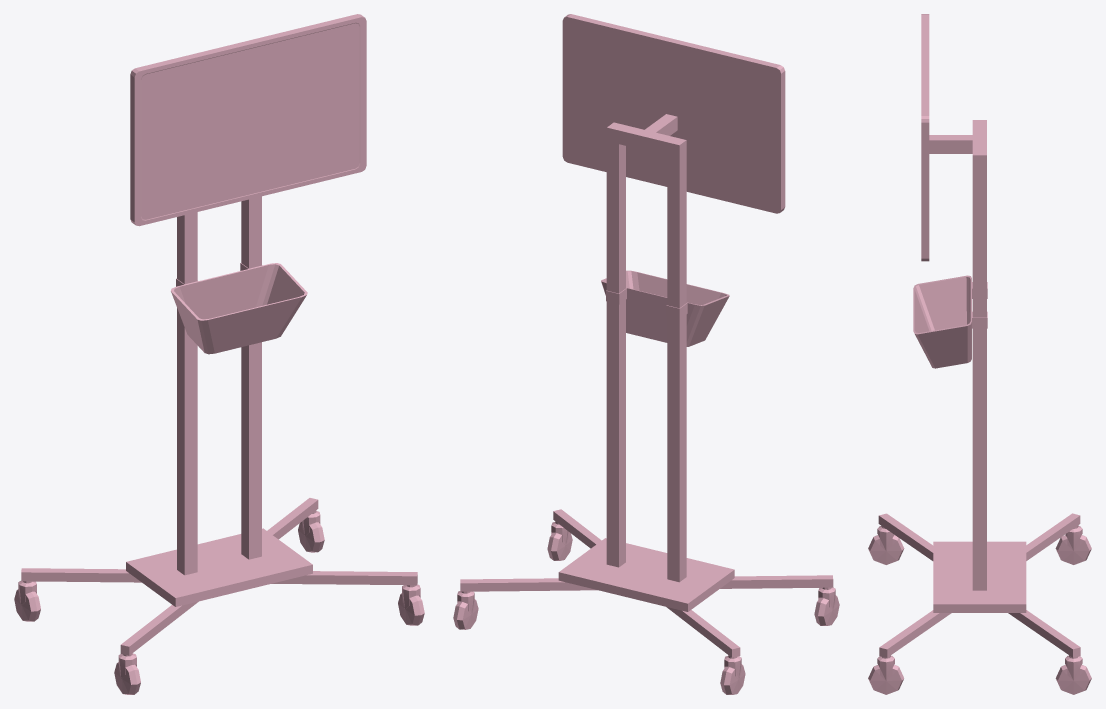
The model's file is device_2.dae.
3 renders of one model, left to right at view 1: azimuth 30°, elevation 25°; view 2: azimuth 150°, elevation 25°; view 3: azimuth 270°, elevation 25°, orthographic. The views are drawn at different scales.
Parts seen in each view (by area): view 1: cart2_Cube.004; view 2: cart2_Cube.004; view 3: cart2_Cube.004.
Boxes of the visible parts, left/top/right/bottom form: cart2_Cube.004: left=14, top=14, right=424, bottom=694; cart2_Cube.004: left=453, top=14, right=839, bottom=694; cart2_Cube.004: left=868, top=14, right=1091, bottom=694.
Size of the model in its own units: 0.6992 by 0.4816 by 1.34.
